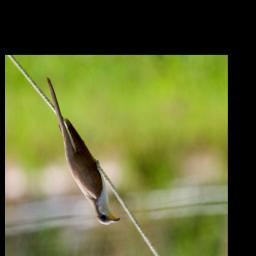Cuckoo: (44, 72, 122, 226)
